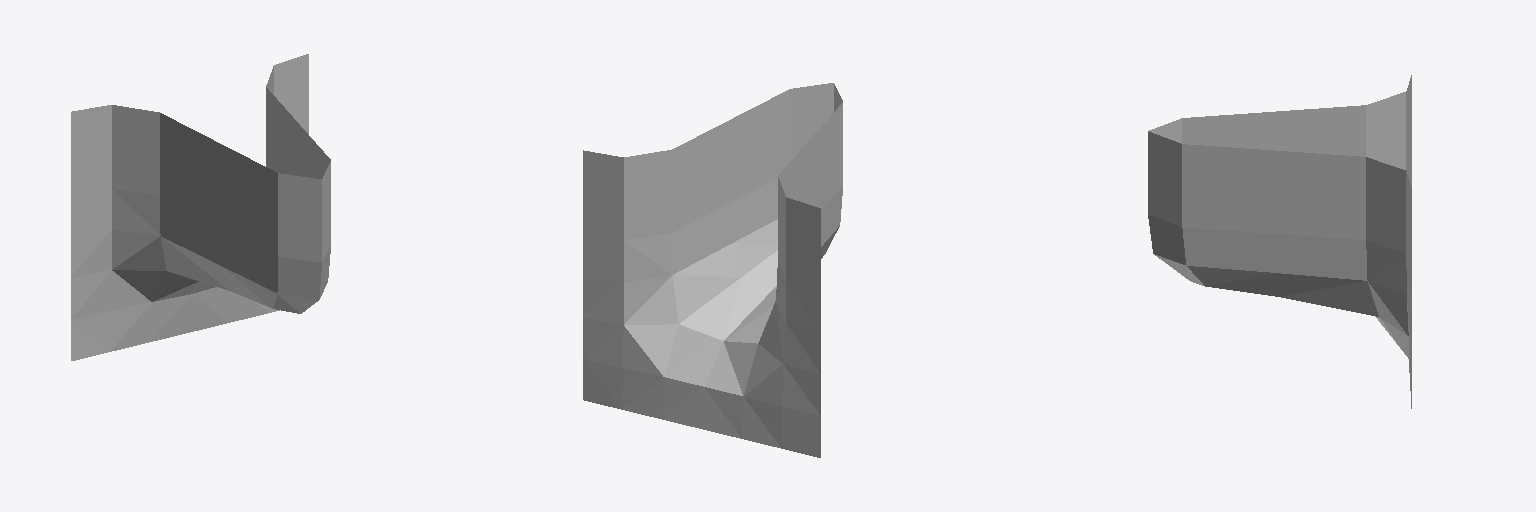
Rendered from OOCO.obj.
3 renders of one model, left to right at view 1: azimuth 30°, elevation 25°; view 2: azimuth 150°, elevation 25°; view 3: azimuth 270°, elevation 25°, orthographic.
Parts seen in each view (by area): view 1: Plane.010_Plane.016; view 2: Plane.010_Plane.016; view 3: Plane.010_Plane.016.
Part boxes in pixels (x1,y1,x2,y2): Plane.010_Plane.016: (71, 54, 330, 360); Plane.010_Plane.016: (583, 83, 842, 457); Plane.010_Plane.016: (1148, 75, 1411, 408).
Bounding box in the file's own units: 1 × 1 × 0.9583.